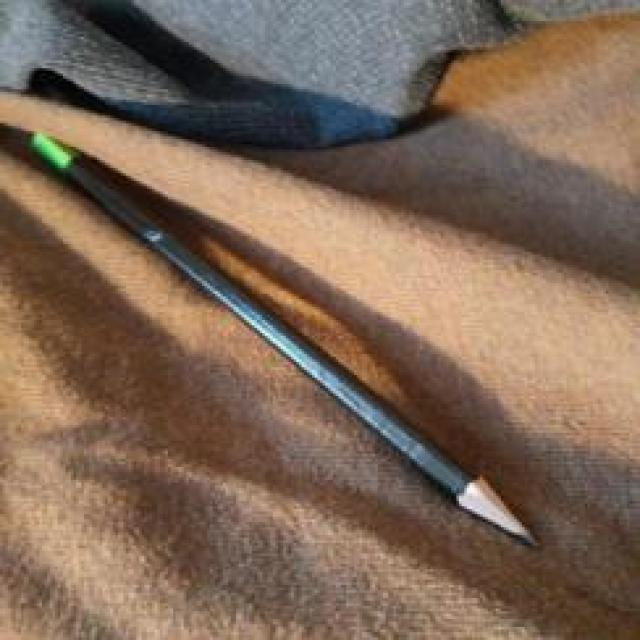pencil: (15, 113, 573, 571)
